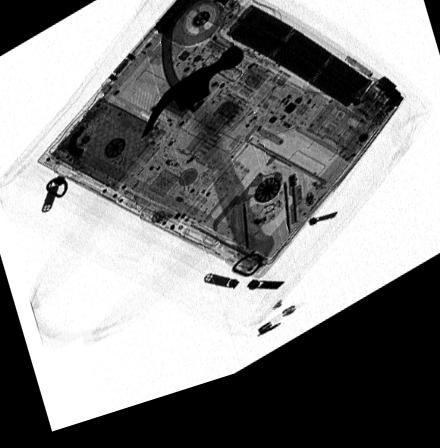Hammer: (142, 59, 276, 289)
